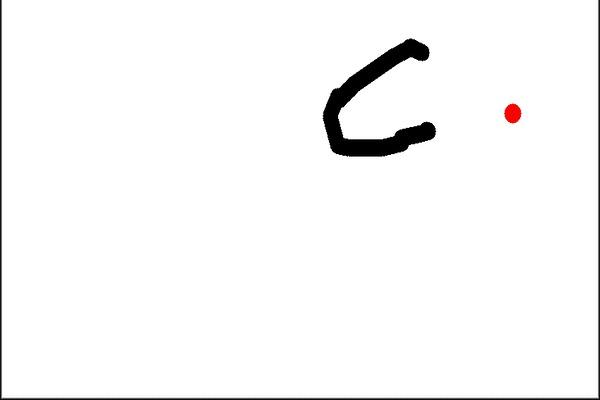C: (319, 30, 442, 159)
